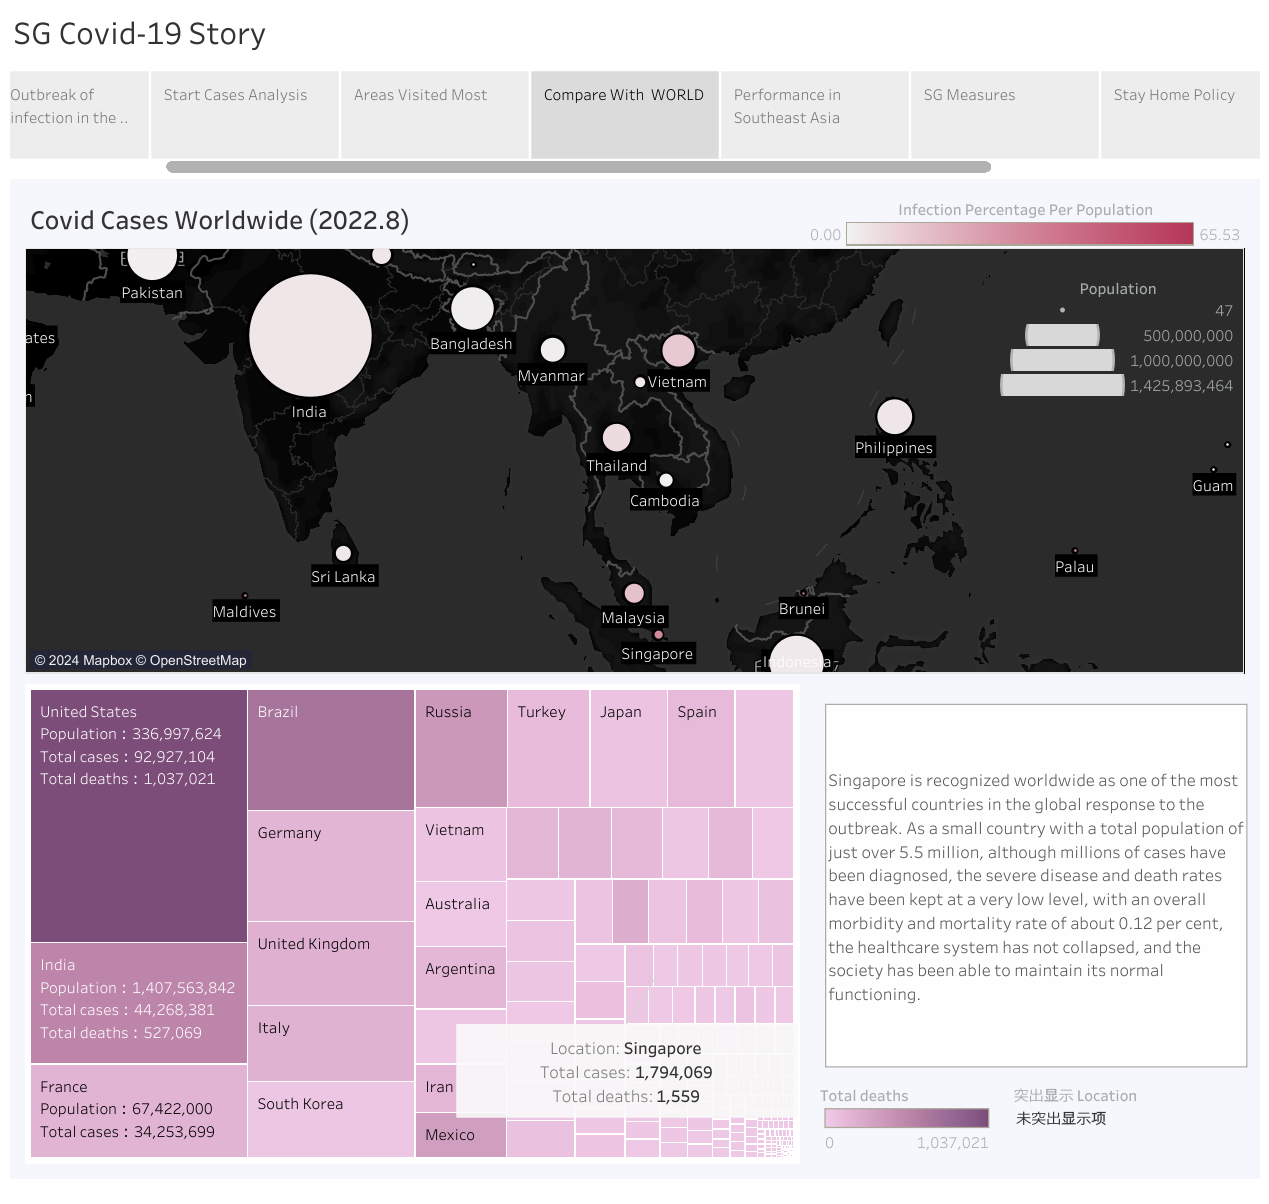

Layout of this report page (visuals, bound fields, positions):
{"tool":"tableau","page":{"name":"WORLD\\","canvas":[1000,800],"ordinal":8},"visuals":[{"type":"worksheet","title":"Cases Worldwide","mark":"Circle","box":[8,8,984,392]},{"type":"legend","title":"Cases Worldwide","param":"[federated.15i9mcg1r27zhq1dw8qno07vczzj].[sum:Infection Percentage Per Populatio","box":[636,11,353,64]},{"type":"legend","title":"Cases Worldwide","param":"[federated.15i9mcg1r27zhq1dw8qno07vczzj].[sum:Population:qk]","box":[789,76,193,106]},{"type":"worksheet","title":"CASES Worldwide2","mark":"Automatic","box":[8,400,984,392]},{"type":"highlighter","title":"Cases Worldwide","param":"[federated.15i9mcg1r27zhq1dw8qno07vczzj].[none:Location:nk]","box":[803,723,160,56]}]}

Visuals, with their boxes on the page's 1000x800 design canvas (x1, y1, x2, y2). These are canvas units, not pixel positions in the 1269x1204 screenshot, which may show the page scaled, cropped or inside an application window:
"Cases Worldwide" worksheet (Circle marks): region(8, 8, 992, 400)
"Cases Worldwide" legend: region(636, 11, 989, 75)
"Cases Worldwide" legend: region(789, 76, 982, 182)
"CASES Worldwide2" worksheet: region(8, 400, 992, 792)
"Cases Worldwide" highlighter: region(803, 723, 963, 779)
